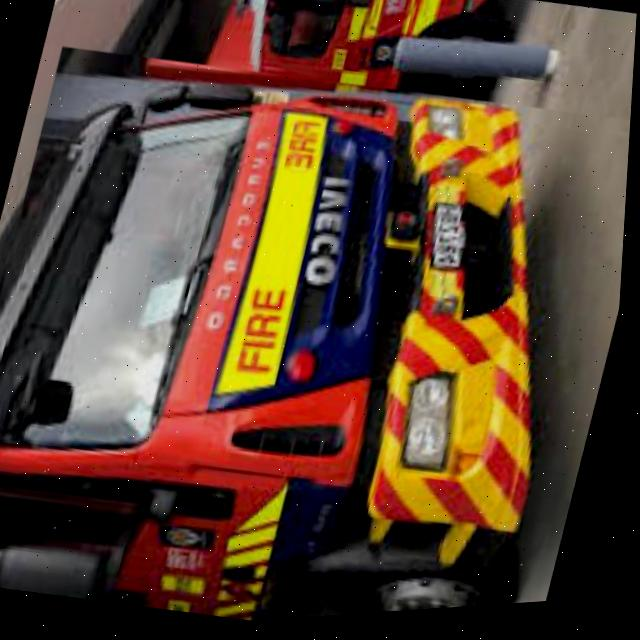Fire Truck: (0, 16, 638, 640)
